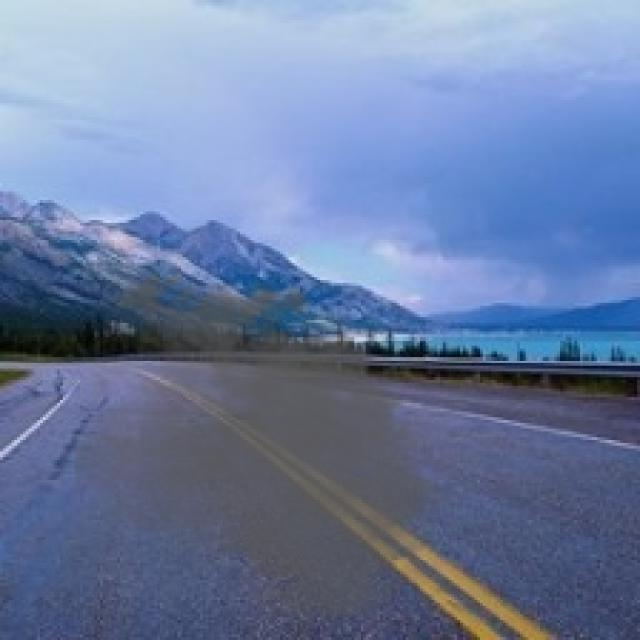Smoke: (74, 260, 460, 629)
